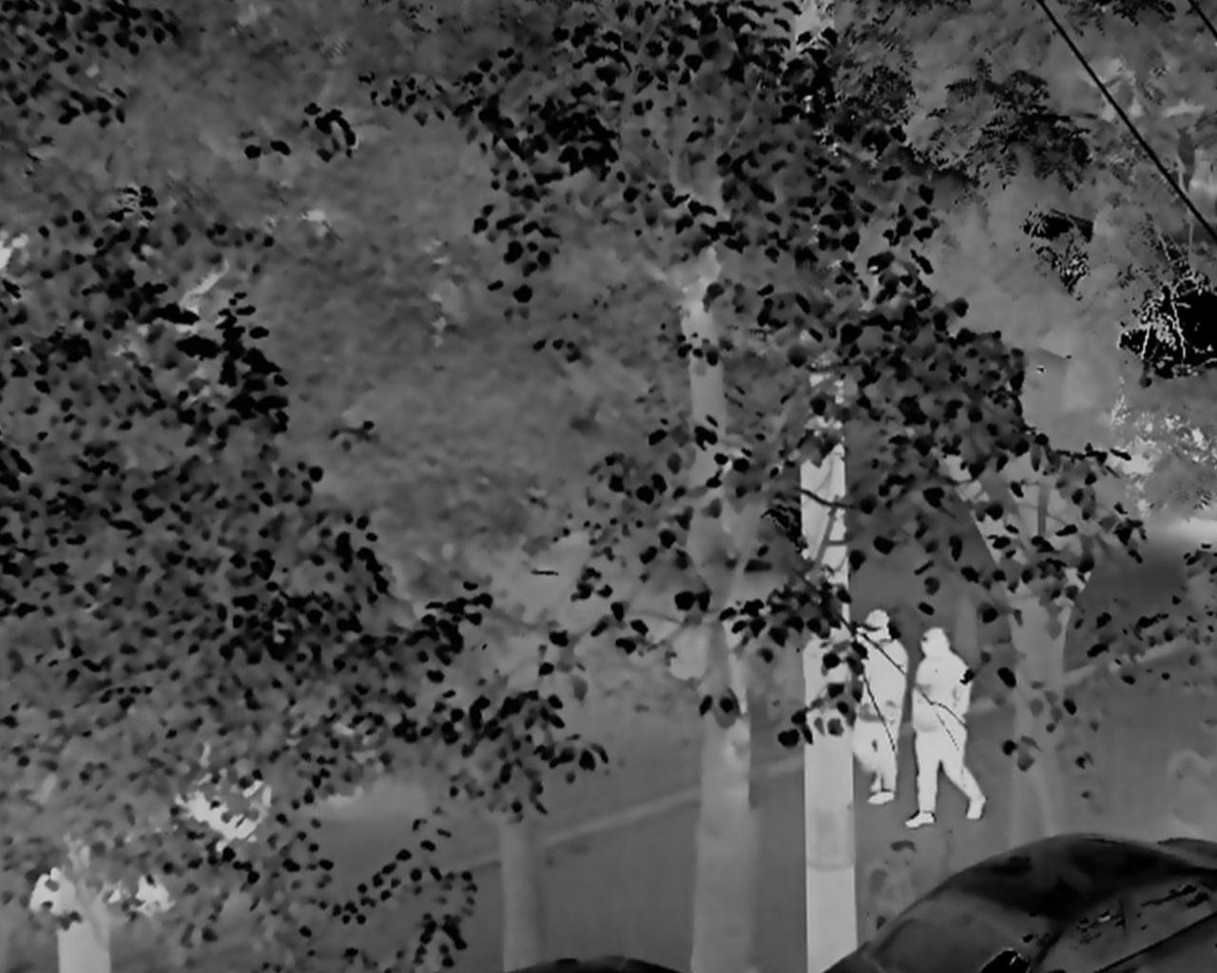person: (899, 624, 988, 827), (846, 607, 908, 809)
